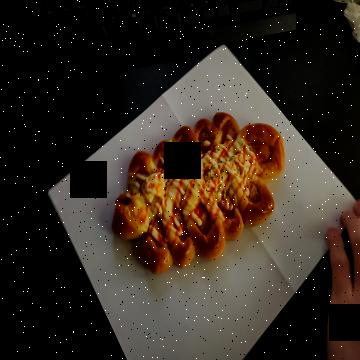pizza_bread: (112, 112, 286, 272)
